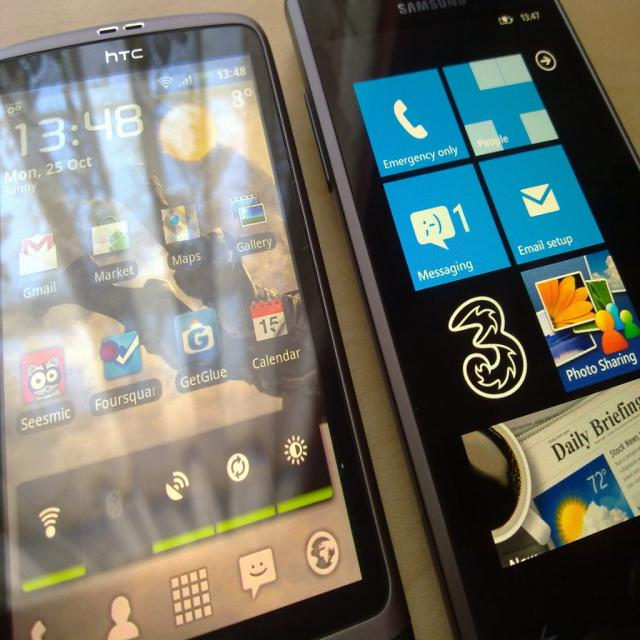Mobile-phone: (0, 14, 414, 639), (283, 0, 639, 639)
